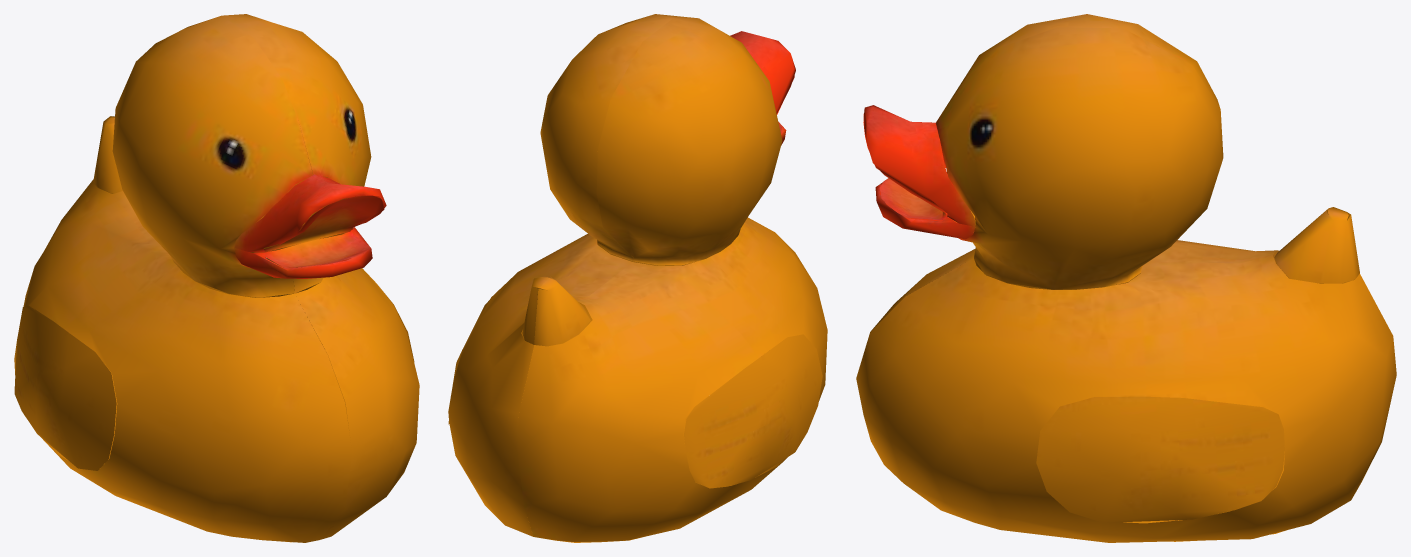
The model's file is isl_duck.glb.
3 renders of one model, left to right at view 1: azimuth 30°, elevation 25°; view 2: azimuth 150°, elevation 25°; view 3: azimuth 270°, elevation 25°, orthographic. The views are drawn at different scales.
Parts seen in each view (by area): view 1: rubber_duck_toy; view 2: rubber_duck_toy; view 3: rubber_duck_toy.
Boxes of the visible parts, box(x1,y1,x2,y2) form: rubber_duck_toy: box(14, 14, 419, 542); rubber_duck_toy: box(448, 14, 827, 542); rubber_duck_toy: box(856, 14, 1396, 542).
Bounding box in the file's own units: 0.2149 × 0.2853 × 0.3003.
Materials: 1 (1 with a texture image).
